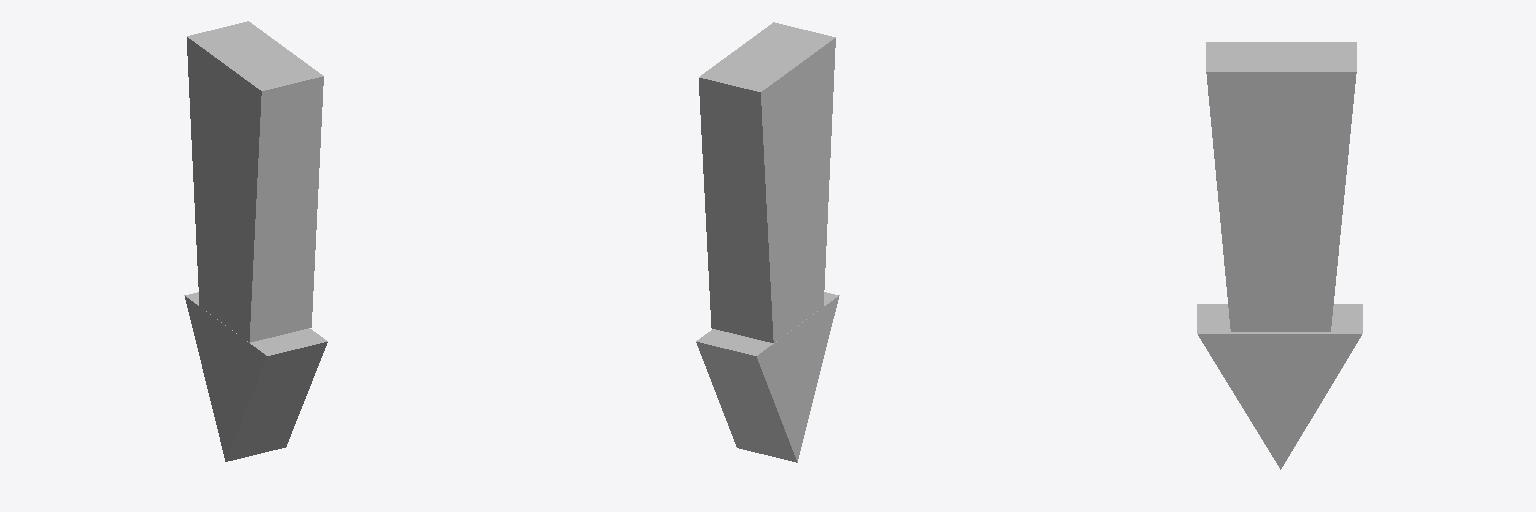
The model's file is arrow.obj.
3 views of the same model, side by side, from view 1: azimuth 30°, elevation 25°; view 2: azimuth 150°, elevation 25°; view 3: azimuth 270°, elevation 25° (orthographic).
Parts seen in each view (by area): view 1: Cube, Cube.001; view 2: Cube, Cube.001; view 3: Cube, Cube.001.
Part boxes in pixels (bbox=[...]): Cube: bbox=[187, 21, 323, 342]; Cube.001: bbox=[184, 292, 327, 461]; Cube: bbox=[699, 22, 835, 342]; Cube.001: bbox=[696, 292, 839, 462]; Cube: bbox=[1206, 42, 1356, 331]; Cube.001: bbox=[1197, 304, 1362, 469].
Size of the model in its own units: 0.7031 by 4.3 by 1.63.